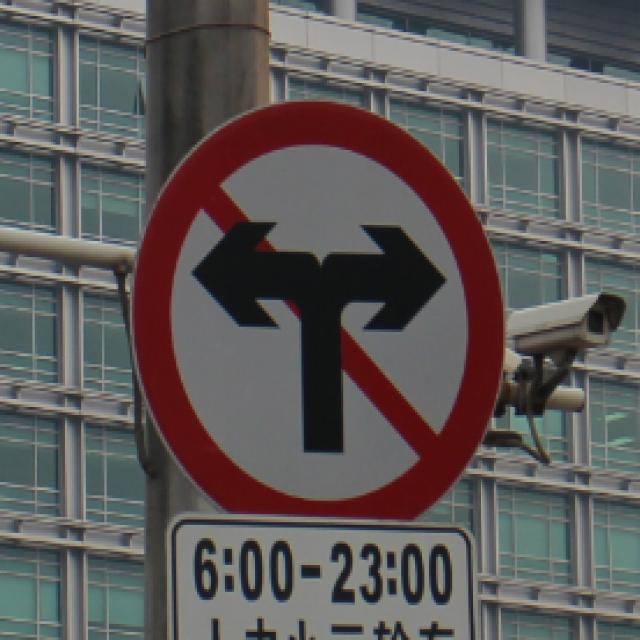Not that Direction: (136, 89, 498, 519)
